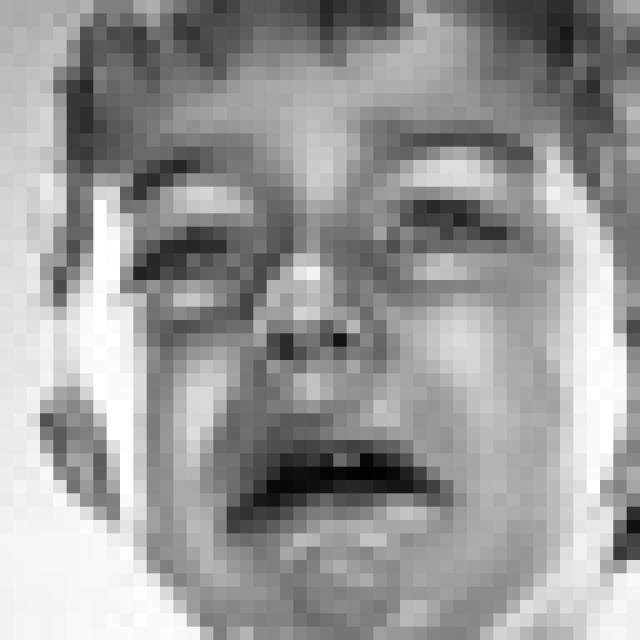sad: (118, 124, 553, 574)
